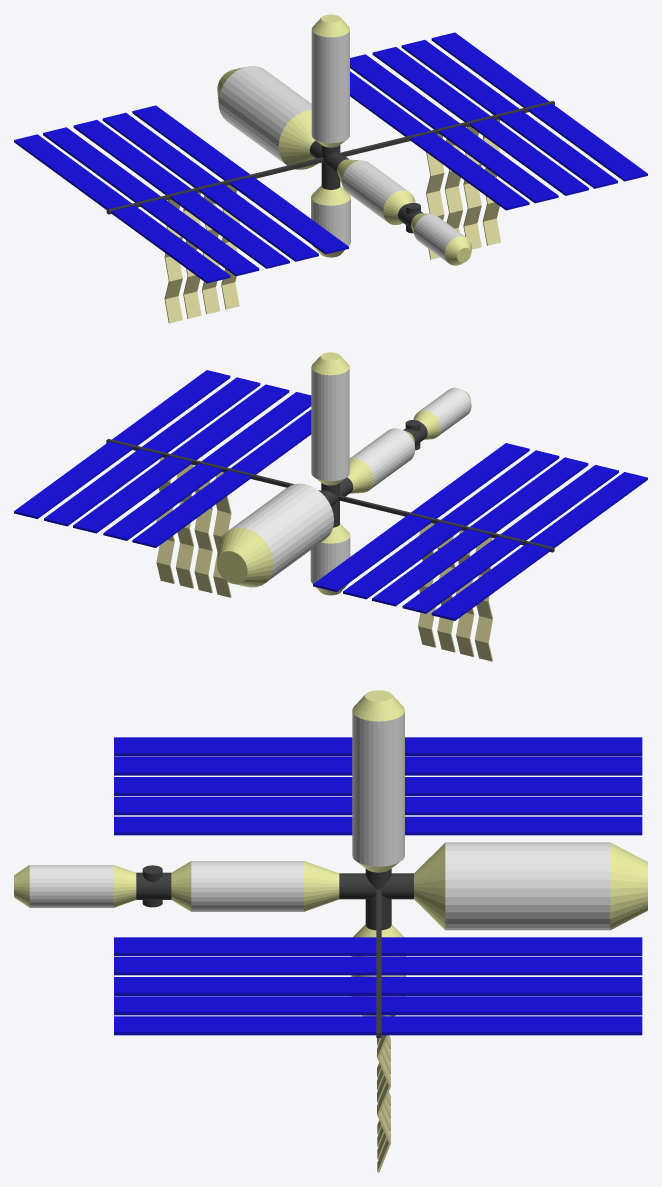
The model's file is spacestation.fbx.
3 renders of one model, top to bottom at view 1: azimuth 30°, elevation 25°; view 2: azimuth 150°, elevation 25°; view 3: azimuth 270°, elevation 25°, orthographic. The views are drawn at different scales.
Parts seen in each view (by area): view 1: SpaceStation; view 2: SpaceStation; view 3: SpaceStation.
Part boxes in pixels (<box>): SpaceStation: <box>14,14,647,323</box>; SpaceStation: <box>14,352,647,661</box>; SpaceStation: <box>14,690,647,1172</box>.
Size of the model in its own units: 6983 by 3967 by 6271.
